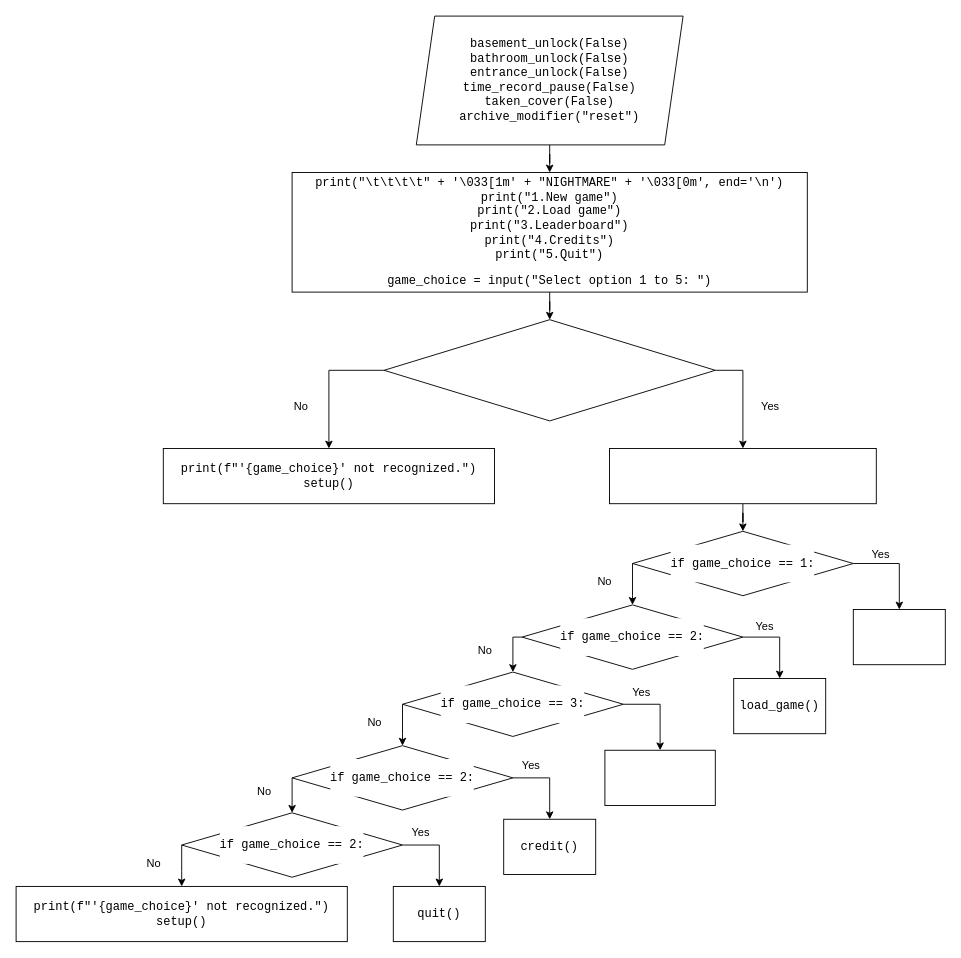
This 961x958 diagram has some shape labels left out. The centre of each missing label's shape, as x and y in pixels:
game_choice = int(game_choice): pixel 742 476
if game_choice.isnumeric():: pixel 549 370
leaderboard(): pixel 659 777
new_game(): pixel 898 637
